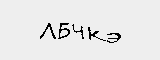Б: (54, 19, 71, 42)
К: (87, 25, 103, 49)
Л: (38, 20, 56, 40)
Ч: (74, 23, 85, 41)
Э: (103, 29, 124, 49)
